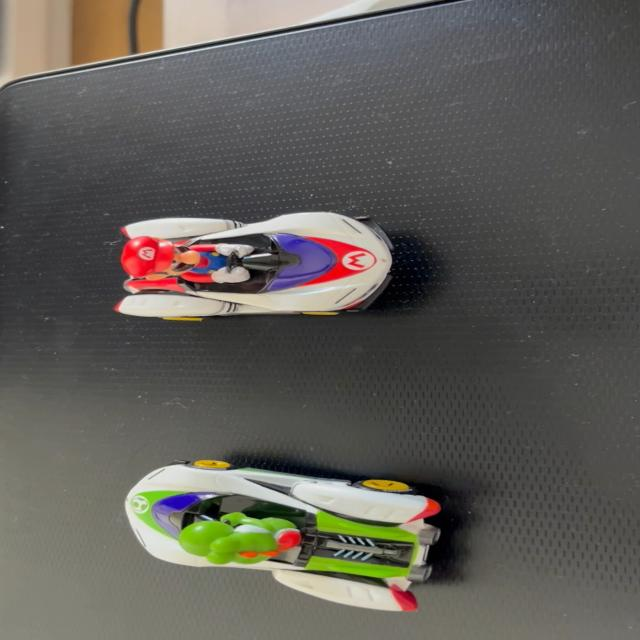mario: (102, 202, 402, 326)
yoshi: (90, 444, 484, 629)
